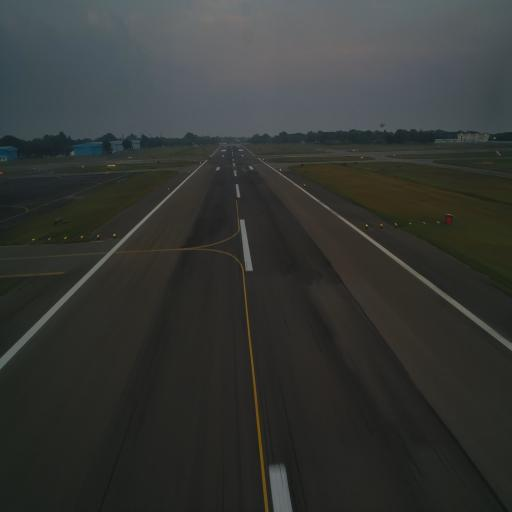on: (48, 236, 52, 242), (80, 234, 84, 239), (96, 233, 100, 238), (408, 221, 412, 226), (423, 220, 427, 225), (64, 235, 67, 241), (113, 232, 116, 238), (32, 238, 36, 242), (394, 222, 398, 226), (366, 223, 369, 228), (380, 222, 383, 227), (437, 220, 440, 225)
